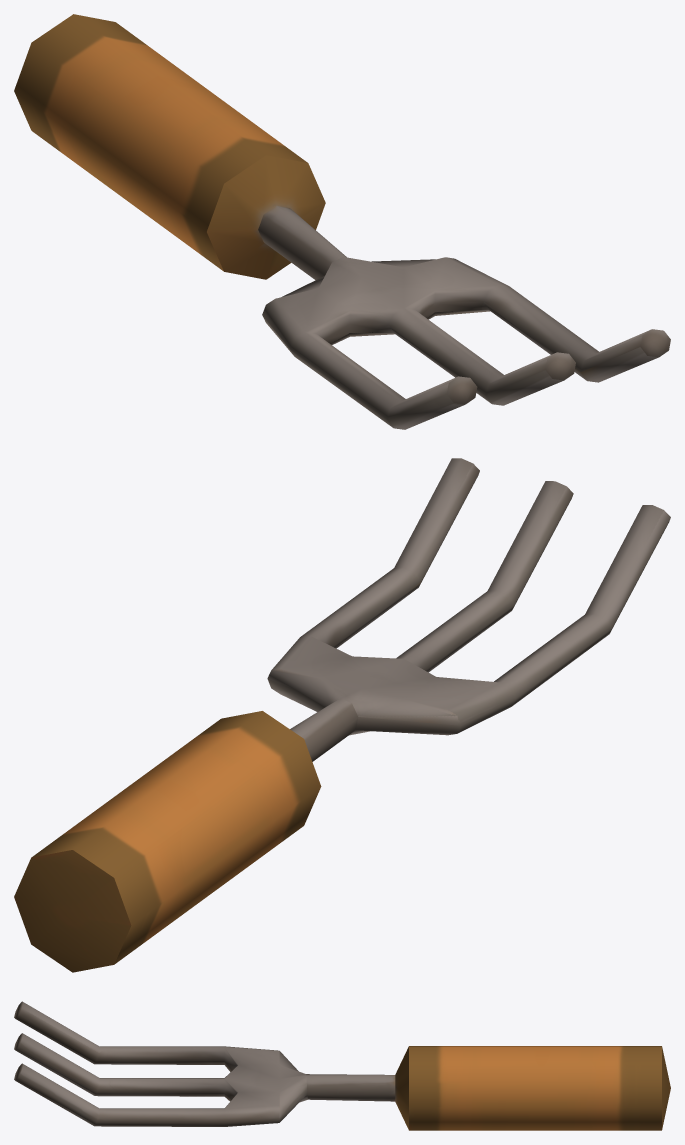
File: Grabli.fbx
The picture shows the model from 3 angles, top to bottom: view 1: azimuth 30°, elevation 25°; view 2: azimuth 150°, elevation 25°; view 3: azimuth 270°, elevation 25°; orthographic projection. The views are drawn at different scales.
Visible parts, largest first — view 1: Grabli ruchka, Grabli; view 2: Grabli ruchka, Grabli; view 3: Grabli ruchka, Grabli.
Boxes of the visible parts, x1,y1,x2,y2 form: Grabli ruchka: (14,14,325,279); Grabli: (258,205,670,429); Grabli ruchka: (14,711,321,972); Grabli: (267,458,670,761); Grabli ruchka: (395,1046,670,1130); Grabli: (14,1001,395,1126).
Bounding box in the file's own units: 6.15 × 3.75 × 23.77.
